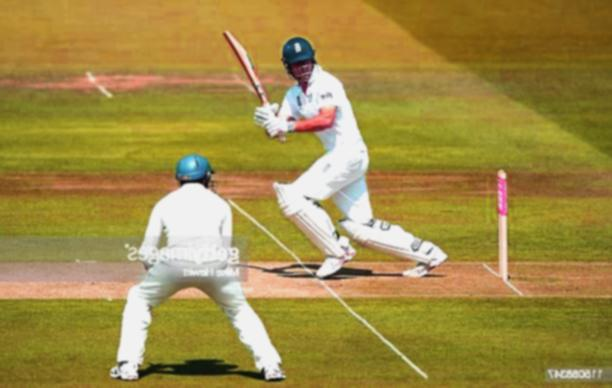batsman: (229, 24, 460, 304)
